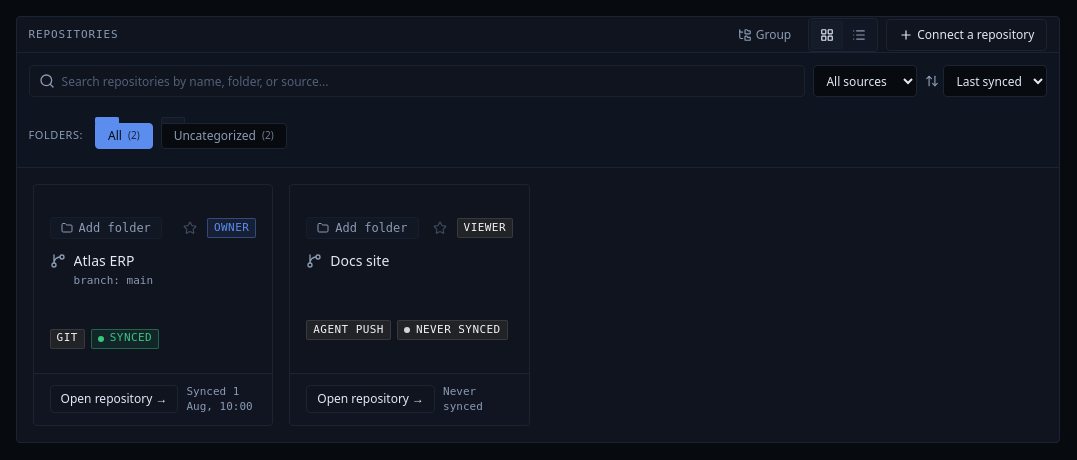
Test case: ReposPage › toggles between card view and list view
This screenshot has width=1077, height=460.
Check: the link "Atlas ERP" is shown, box [74,251,134,270]
# Switch to list view
Click the button named "List view" at (859, 34), box [843,20,875,48]
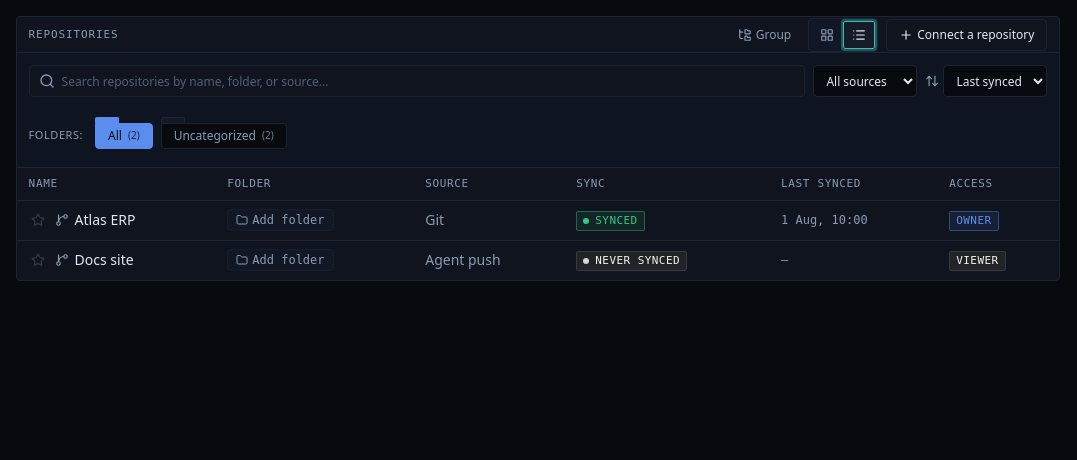
Check: the table is shown, box [17,168,1059,280]
# Switch back to card view
Click the button named "Card view" at (827, 34), box [811,20,843,48]
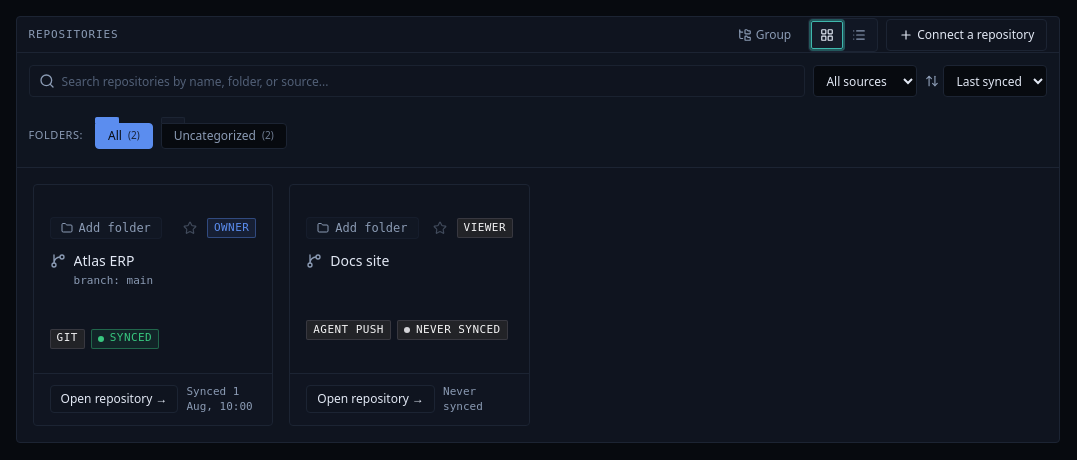
Check: the table is gone
